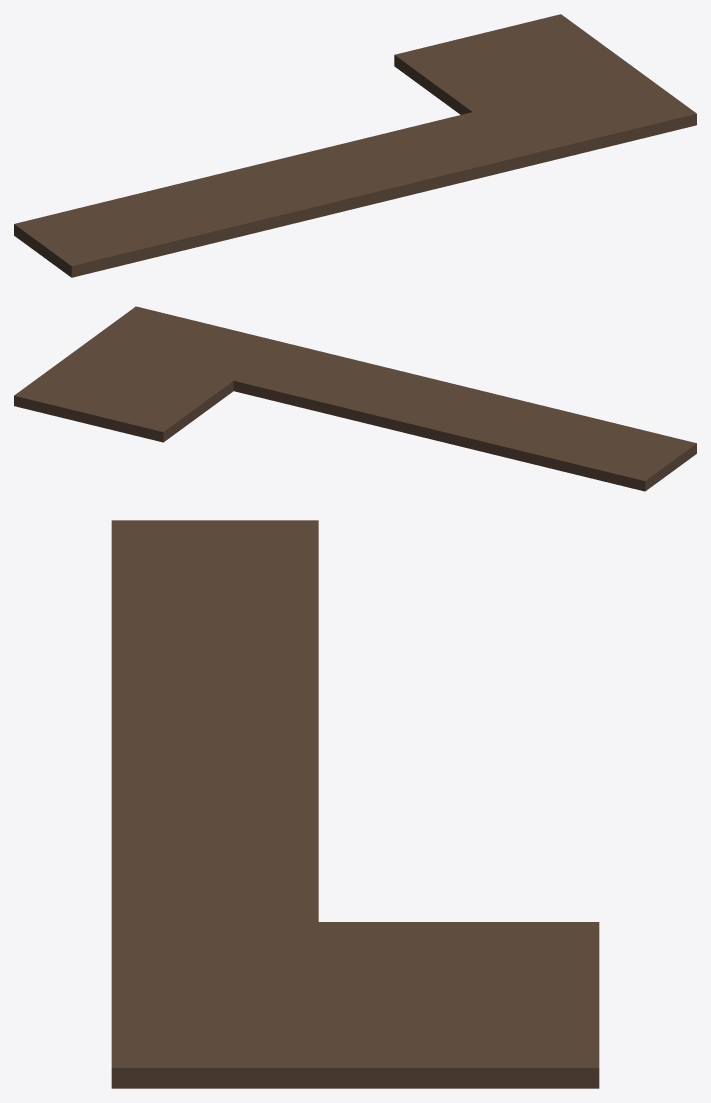
The model's file is Dach_Zwischenboden.gltf.
3 views of the same model, one above another, from view 1: azimuth 30°, elevation 25°; view 2: azimuth 150°, elevation 25°; view 3: azimuth 270°, elevation 25° (orthographic). The views are drawn at different scales.
Parts seen in each view (by area): view 1: Curve.066, Curve.065; view 2: Curve.066, Curve.065; view 3: Curve.066, Curve.065.
Part boxes in pixels (x1,y1,x2,y2): Curve.066: [14, 112, 530, 277]; Curve.065: [394, 14, 696, 165]; Curve.066: [233, 343, 696, 491]; Curve.065: [14, 306, 284, 442]; Curve.066: [111, 520, 318, 921]; Curve.065: [111, 922, 599, 1088].
Size of the model in its own units: 5.63 by 0.1 by 2.12.
